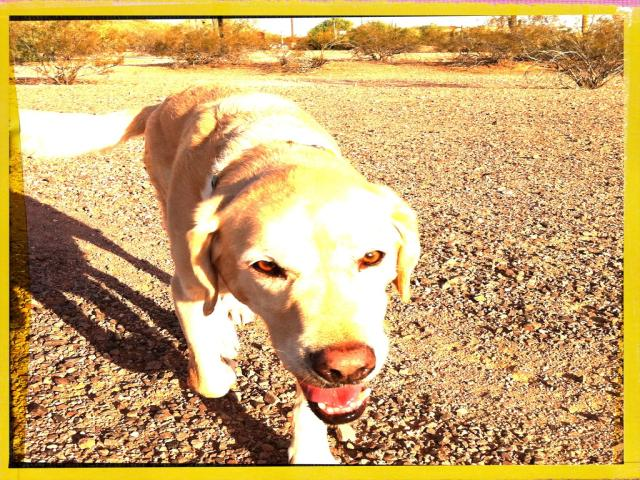Dog: (16, 83, 419, 463)
